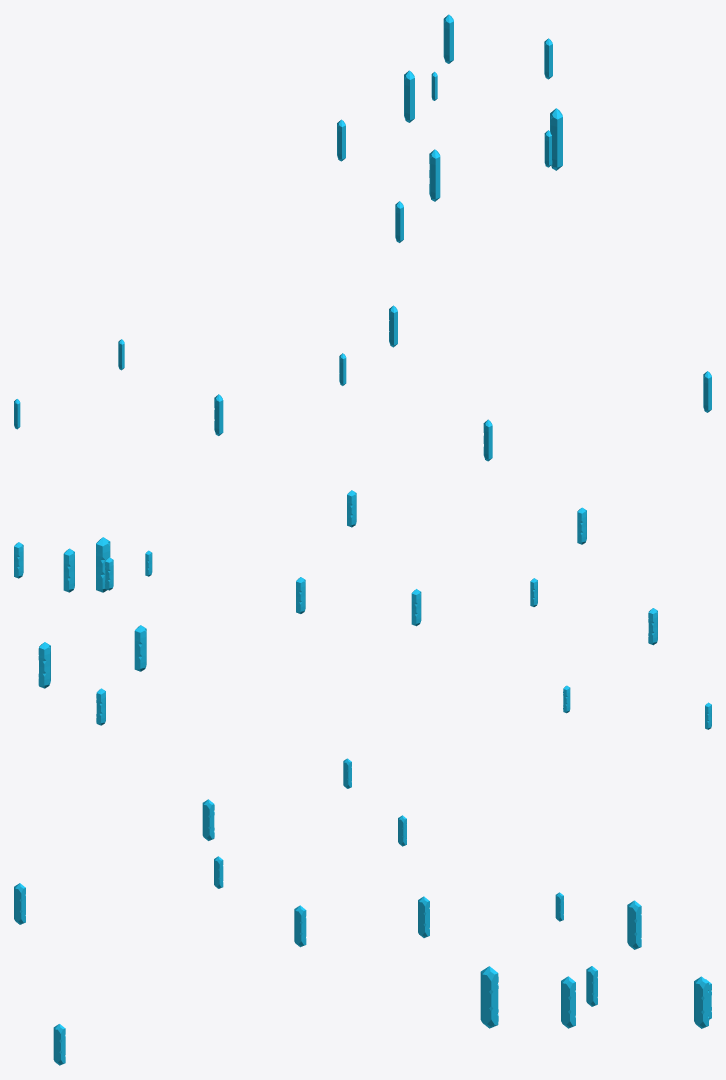
File: float_crystal.glb
3 views of the same model, one above another, from view 1: azimuth 30°, elevation 25°; view 2: azimuth 150°, elevation 25°; view 3: azimuth 270°, elevation 25° (orthographic). The views are drawn at different scales.
Visible parts, largest first — view 1: float_crystal.005; view 2: float_crystal.005, float_crystal.011, float_crystal.006, float_crystal.010; view 3: float_crystal.005, float_crystal.006, float_crystal.011, float_crystal.010, float_crystal.003, float_crystal.014, float_crystal.002.
Part boxes in pixels (bbox=[...]): float_crystal.005: bbox=[550, 108, 562, 170]; float_crystal.005: bbox=[96, 537, 110, 592]; float_crystal.011: bbox=[134, 625, 146, 671]; float_crystal.006: bbox=[38, 642, 50, 688]; float_crystal.010: bbox=[63, 548, 74, 592]; float_crystal.005: bbox=[480, 966, 498, 1028]; float_crystal.006: bbox=[694, 976, 709, 1028]; float_crystal.011: bbox=[561, 976, 575, 1028]; float_crystal.010: bbox=[627, 900, 641, 949]; float_crystal.003: bbox=[202, 799, 214, 840]; float_crystal.014: bbox=[53, 1024, 65, 1065]; float_crystal.002: bbox=[294, 905, 306, 947].
Size of the model in its own units: 47.16 by 12.29 by 43.23.
